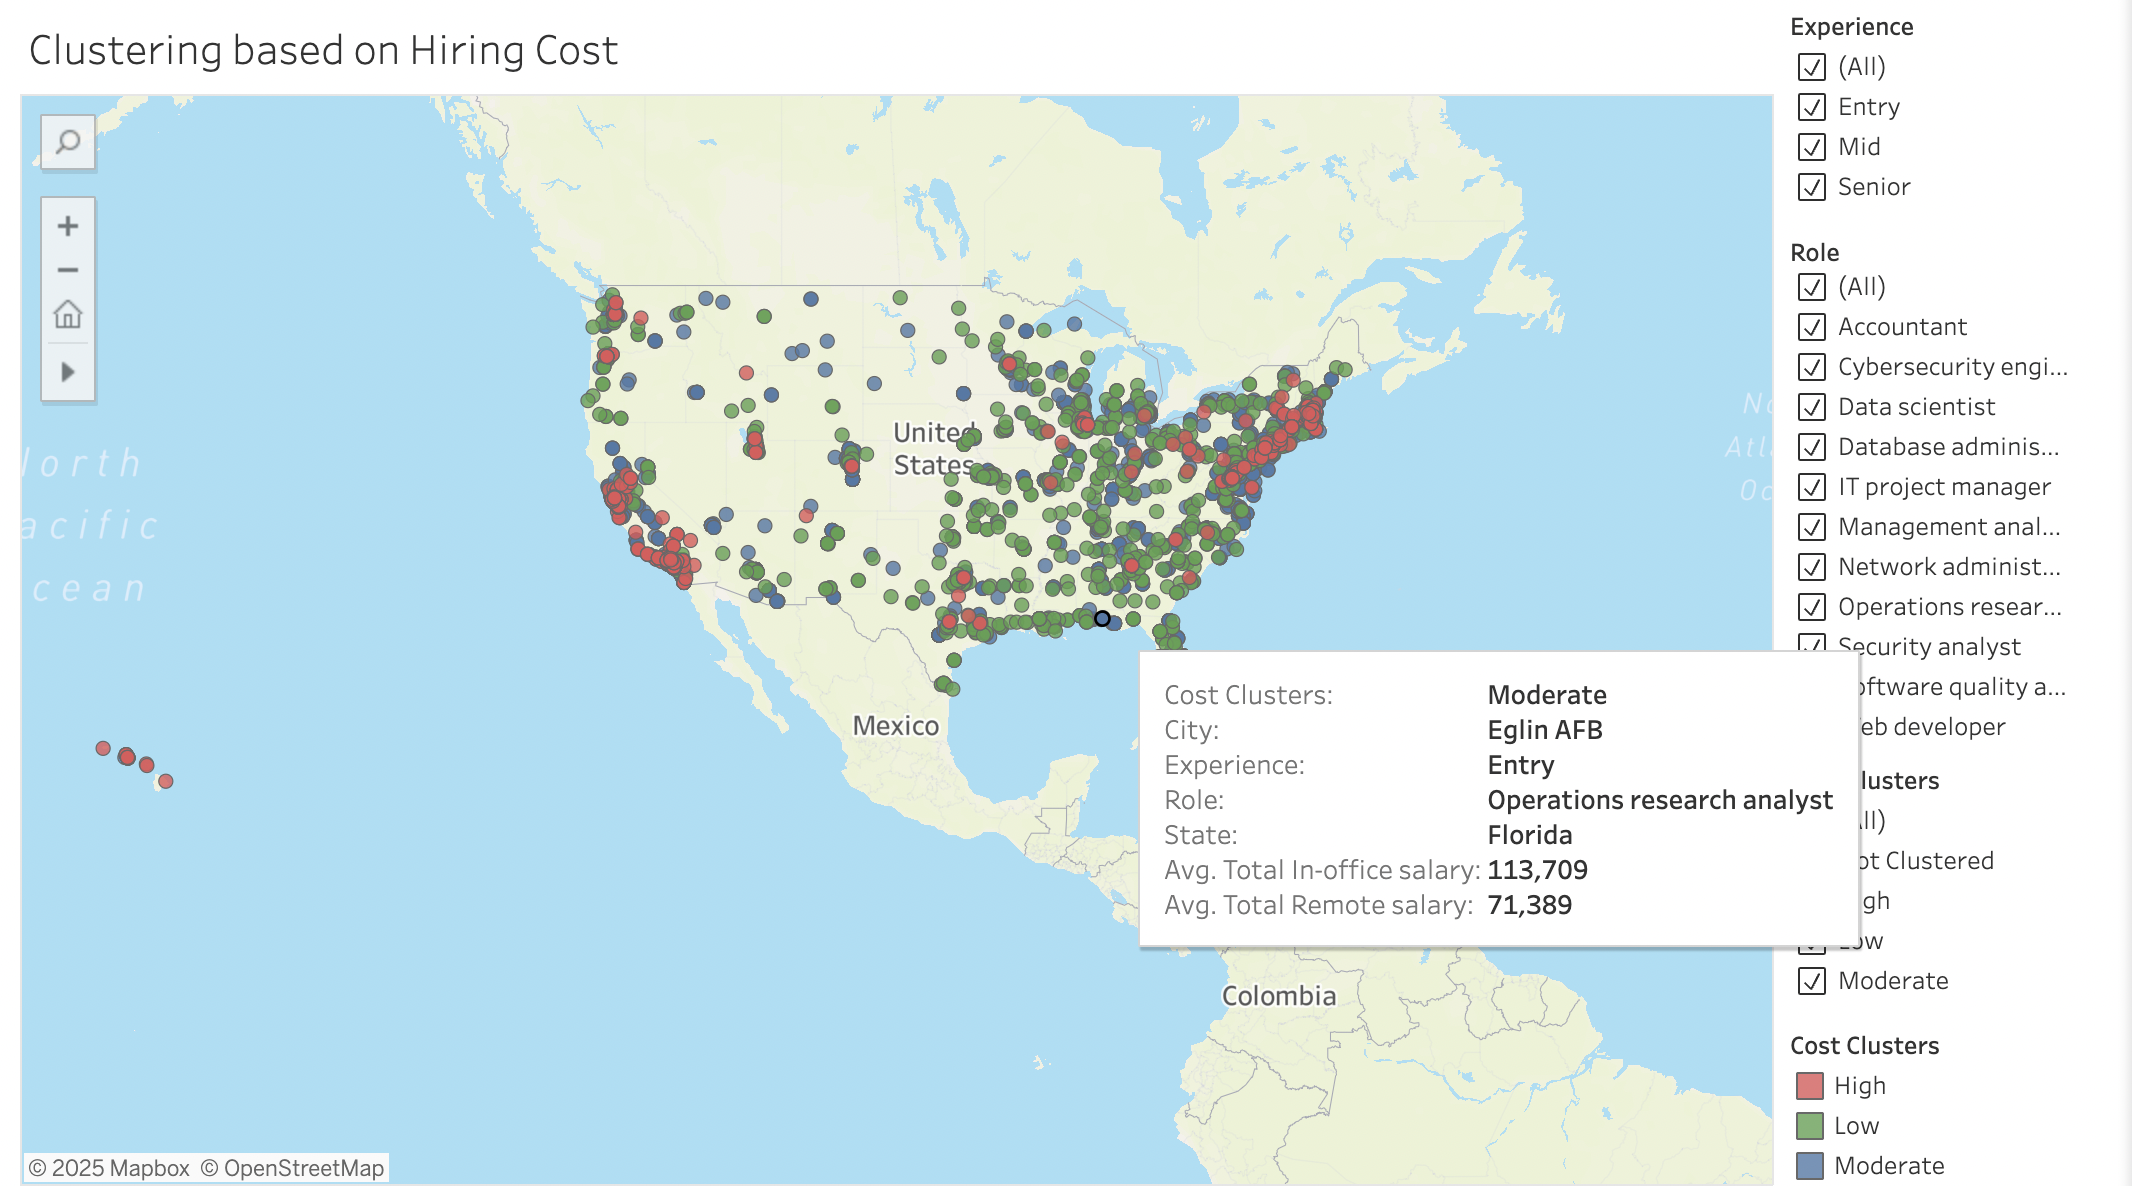

What the dashboard file says about the page in this screenshot:
{"tool":"tableau","page":{"name":"Dashboard","canvas":[1000,1000],"units":"permille","ordinal":0},"visuals":[{"type":"worksheet","title":"Clustering based on Hiring Cost","mark":"Multipolygon","box":[7.9,13.1,825.7,973.9]},{"type":"filter","title":"Clustering based on Hiring Cost","param":"[federated.0ofeg730rquf88172x95x16888tj].[none:Experience:nk]","box":[833.7,13.1,158.4,176.5]},{"type":"filter","title":"Clustering based on Hiring Cost","param":"[federated.0ofeg730rquf88172x95x16888tj].[none:Role:nk]","box":[833.7,189.5,158.4,424.8]},{"type":"legend","title":"Clustering based on Hiring Cost","param":"[federated.0ofeg730rquf88172x95x16888tj].[none:AdhocCluster:5:ok]","box":[833.7,614.4,158.4,140.5]}]}

Visuals, with their boxes on the dashboard's canvas, which has no fixed pixel size, in thousandths of its width and height (x1, y1, x2, y2). These are canvas units, not pixel positions in the 2132x1186 screenshot, which may show the page scaled, cropped or inside an application window:
"Clustering based on Hiring Cost" worksheet (Multipolygon marks): 8/13/834/987
"Clustering based on Hiring Cost" filter: 834/13/992/190
"Clustering based on Hiring Cost" filter: 834/190/992/614
"Clustering based on Hiring Cost" legend: 834/614/992/755
